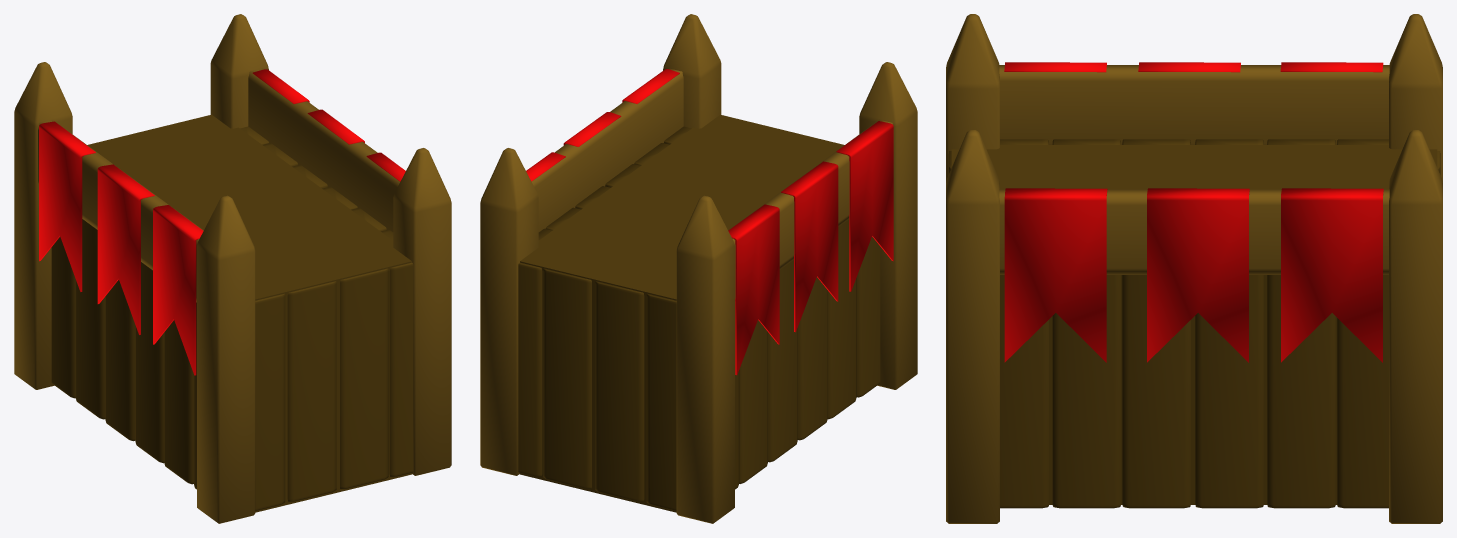
Rendered from Wall_Level1_RedTeam.fbx.
3 views of the same model, side by side, from view 1: azimuth 30°, elevation 25°; view 2: azimuth 150°, elevation 25°; view 3: azimuth 270°, elevation 25° (orthographic). The views are drawn at different scales.
Visible parts, largest first — view 1: Wall_Level1_RedTeam; view 2: Wall_Level1_RedTeam; view 3: Wall_Level1_RedTeam.
Part boxes in pixels (left/top/right/bottom): Wall_Level1_RedTeam: left=14, top=14, right=451, bottom=523; Wall_Level1_RedTeam: left=480, top=14, right=917, bottom=523; Wall_Level1_RedTeam: left=946, top=14, right=1442, bottom=523.
Bounding box in the file's own units: 976 × 1254 × 1477.
